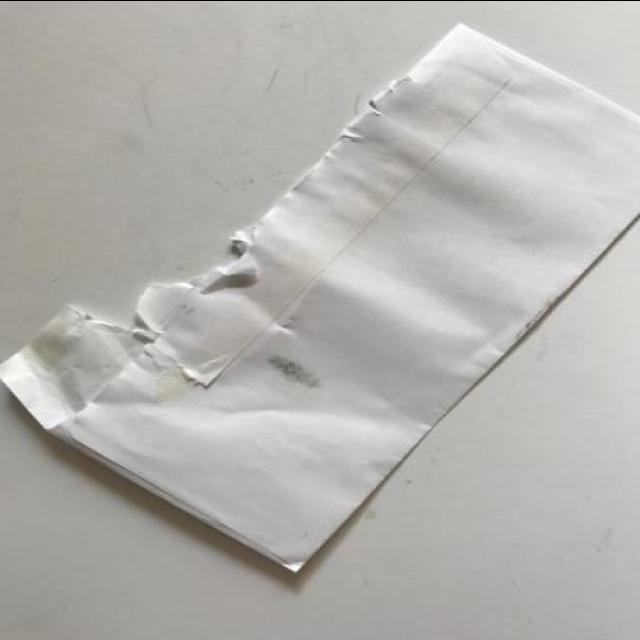kertas: (0, 17, 640, 577)
